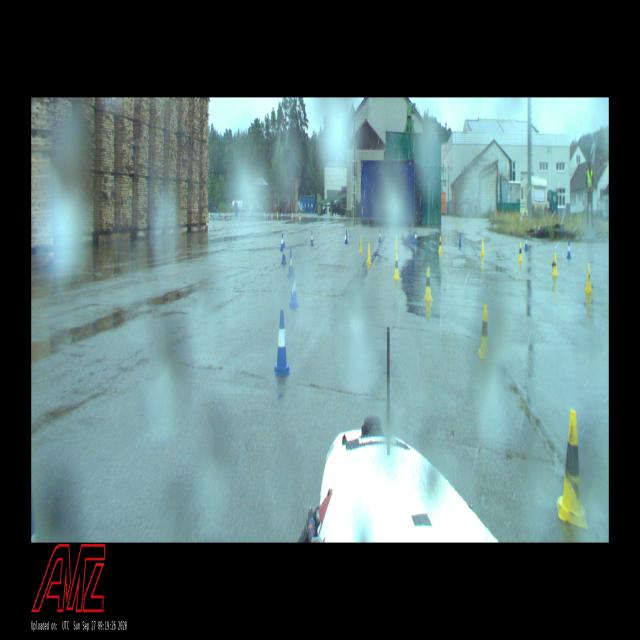blue_cone: (274, 309, 290, 375), (289, 269, 298, 308), (288, 251, 293, 276), (282, 241, 286, 265), (567, 240, 571, 259), (280, 234, 284, 251), (344, 228, 348, 245), (524, 236, 528, 252), (414, 230, 418, 245), (310, 231, 314, 246), (458, 232, 462, 247), (378, 228, 381, 242)
yellow_cone: (556, 410, 588, 531), (478, 306, 491, 360), (423, 266, 432, 300), (584, 264, 593, 294), (393, 252, 400, 280), (366, 244, 372, 265), (552, 252, 557, 277), (518, 242, 522, 263), (394, 233, 398, 253), (438, 235, 442, 252), (480, 238, 484, 254), (359, 237, 362, 254)
